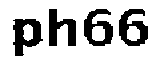6: (82, 3, 115, 52), (120, 3, 152, 53)
h: (46, 5, 78, 52)
p: (9, 14, 42, 60)
